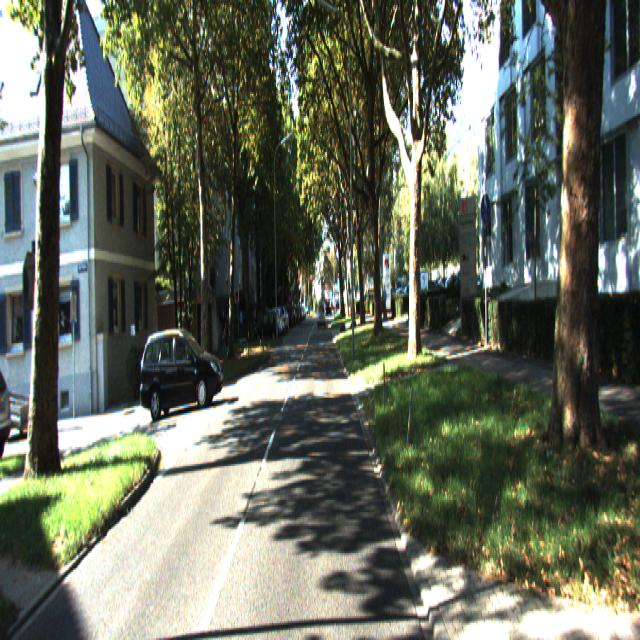Car: (139, 327, 223, 419), (253, 308, 277, 341)
